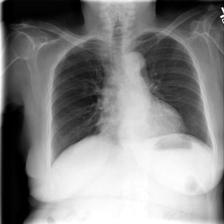normal: (46, 28, 220, 168)
